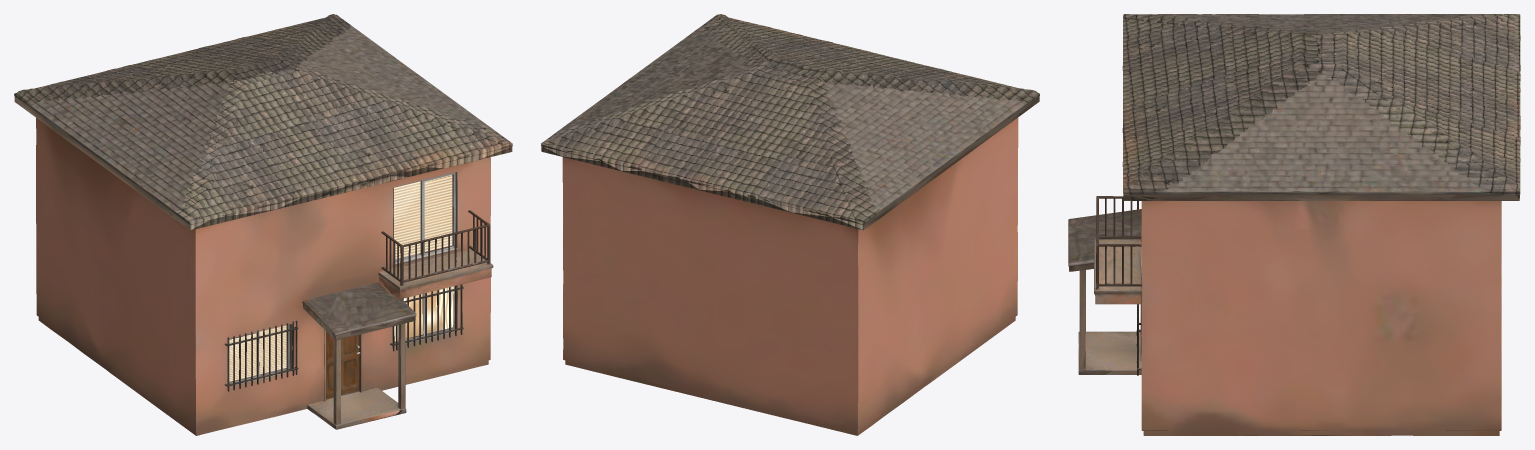
Rendered from house-02-two-story.glb.
3 renders of one model, left to right at view 1: azimuth 30°, elevation 25°; view 2: azimuth 150°, elevation 25°; view 3: azimuth 270°, elevation 25°, orthographic. The views are drawn at different scales.
Visible parts, largest first — view 1: geometry_0; view 2: geometry_0; view 3: geometry_0.
Boxes of the visible parts, left/top/right/bottom form: geometry_0: left=14, top=14, right=512, bottom=435; geometry_0: left=541, top=14, right=1039, bottom=435; geometry_0: left=1068, top=14, right=1520, bottom=435.
Bounding box in the file's own units: 8.09 × 6.5 × 8.7.
4 materials, 4 textured.
